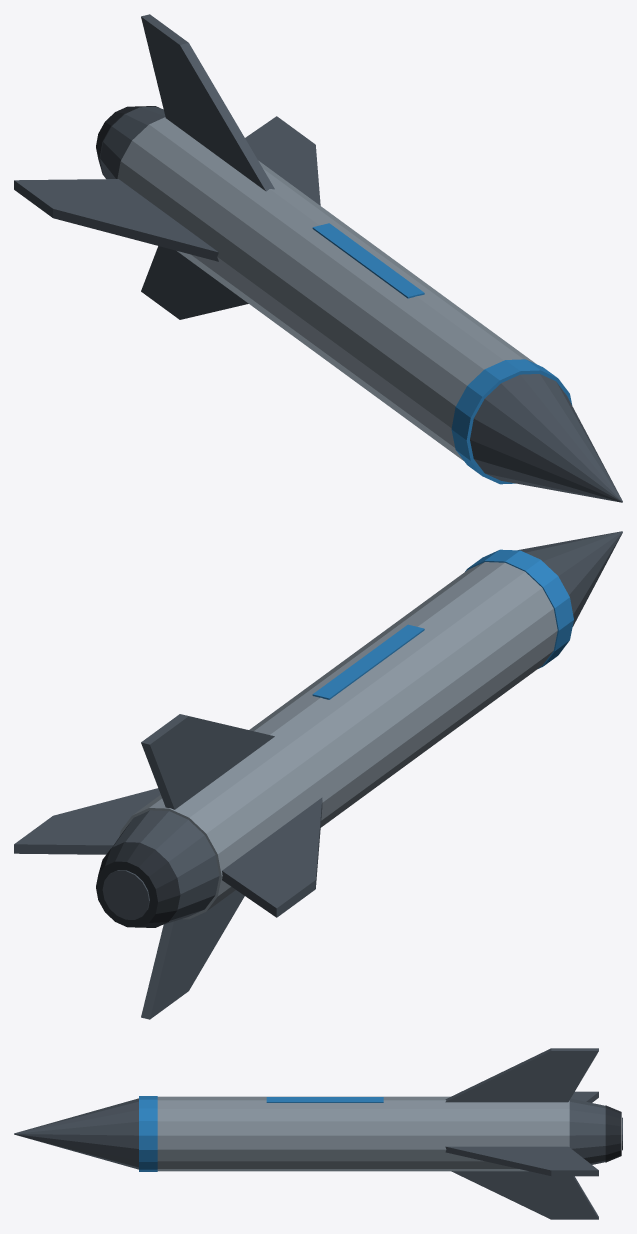
Rendered from Generic_Missile_01.fbx.
3 renders of one model, top to bottom at view 1: azimuth 30°, elevation 25°; view 2: azimuth 150°, elevation 25°; view 3: azimuth 270°, elevation 25°, orthographic. The views are drawn at different scales.
Parts seen in each view (by area): view 1: Generic_Missile_01_Body_Nose, Generic_Missile_01_TailFins, Generic_Missile_01_FictionalMarking; view 2: Generic_Missile_01_Body_Nose, Generic_Missile_01_TailFins, Generic_Missile_01_RearNozzle_Exterior, Generic_Missile_01_FictionalMarking; view 3: Generic_Missile_01_Body_Nose, Generic_Missile_01_TailFins, Generic_Missile_01_RearNozzle_Exterior, Generic_Missile_01_FictionalMarking.
Part boxes in pixels (bbox=[...]): Generic_Missile_01_Body_Nose: bbox=[100, 106, 622, 502]; Generic_Missile_01_TailFins: bbox=[14, 14, 320, 319]; Generic_Missile_01_FictionalMarking: bbox=[312, 223, 424, 298]; Generic_Missile_01_Body_Nose: bbox=[112, 531, 622, 924]; Generic_Missile_01_TailFins: bbox=[14, 714, 322, 1019]; Generic_Missile_01_RearNozzle_Exterior: bbox=[96, 842, 180, 927]; Generic_Missile_01_FictionalMarking: bbox=[312, 624, 424, 699]; Generic_Missile_01_Body_Nose: bbox=[14, 1096, 605, 1171]; Generic_Missile_01_TailFins: bbox=[445, 1048, 598, 1219]; Generic_Missile_01_RearNozzle_Exterior: bbox=[605, 1105, 622, 1162]; Generic_Missile_01_FictionalMarking: bbox=[266, 1097, 383, 1102].
Bounding box in the file's own units: 0.7 × 0.7 × 2.29.
